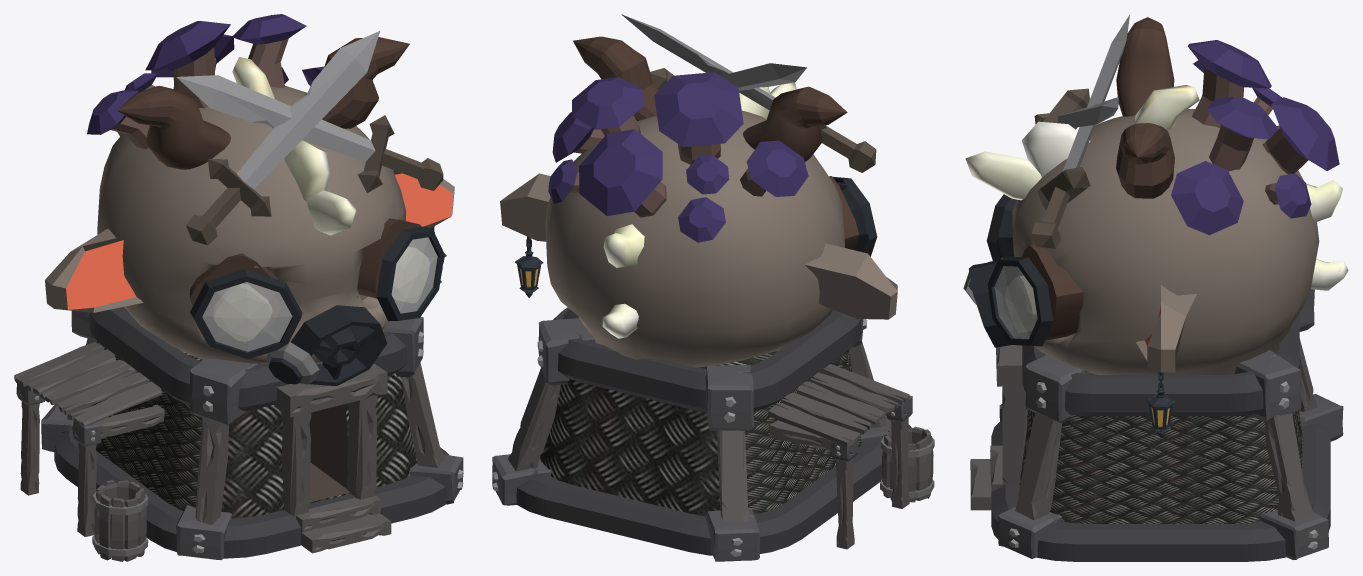
File: Bingying_v2.fbx
The picture shows the model from 3 angles, left to right: view 1: azimuth 30°, elevation 25°; view 2: azimuth 150°, elevation 25°; view 3: azimuth 270°, elevation 25°; orthographic projection. The views are drawn at different scales.
Visible parts, largest first — view 1: Base1; view 2: Base1; view 3: Base1.
Boxes of the visible parts, left/top/right/bottom form: Base1: left=14, top=14, right=463, bottom=561; Base1: left=492, top=14, right=934, bottom=561; Base1: left=963, top=14, right=1348, bottom=561.
Bounding box in the file's own units: 70.72 × 74.16 × 58.73.
